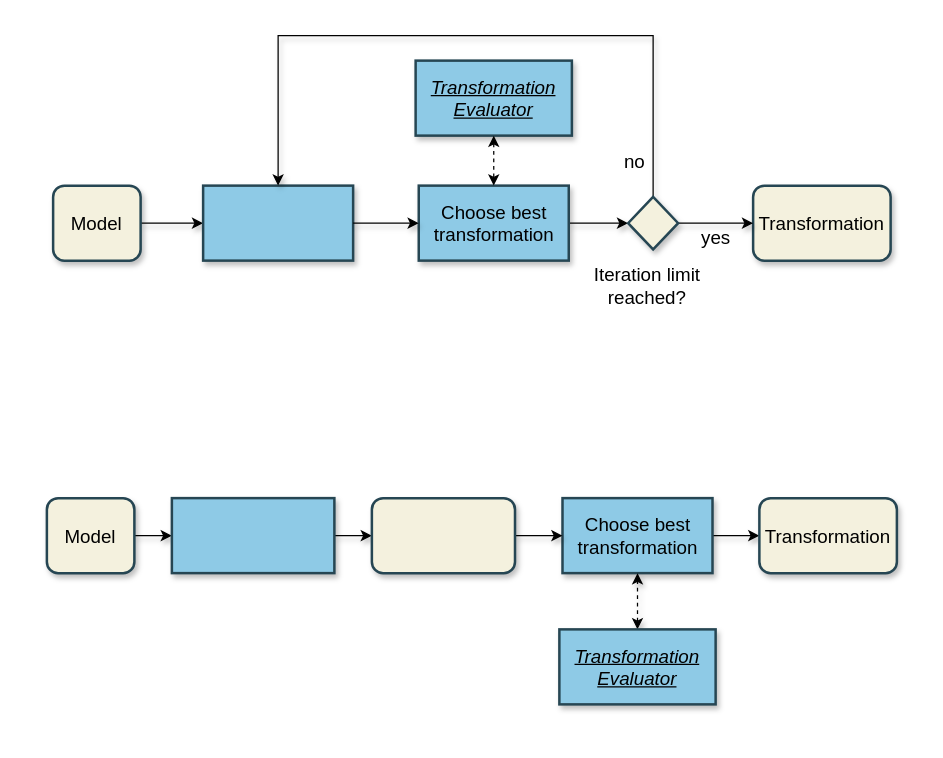
This 943x758 diagram has some shape labels left out. The shapes that lost their labels are listed below. From the top down, each one's centre as x and y in pixels, then its label:
[278,224]: Transformation Generator
[253,536]: Transformation Stream Generator
[444,536]: Stream of transformations
